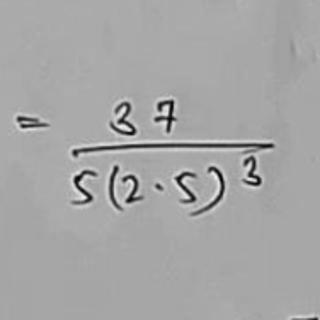.: (150, 180, 167, 196)
2: (120, 170, 143, 207)
3: (106, 99, 140, 138), (241, 150, 263, 191)
5: (71, 166, 97, 206), (174, 170, 198, 206)
7: (151, 96, 182, 136)
